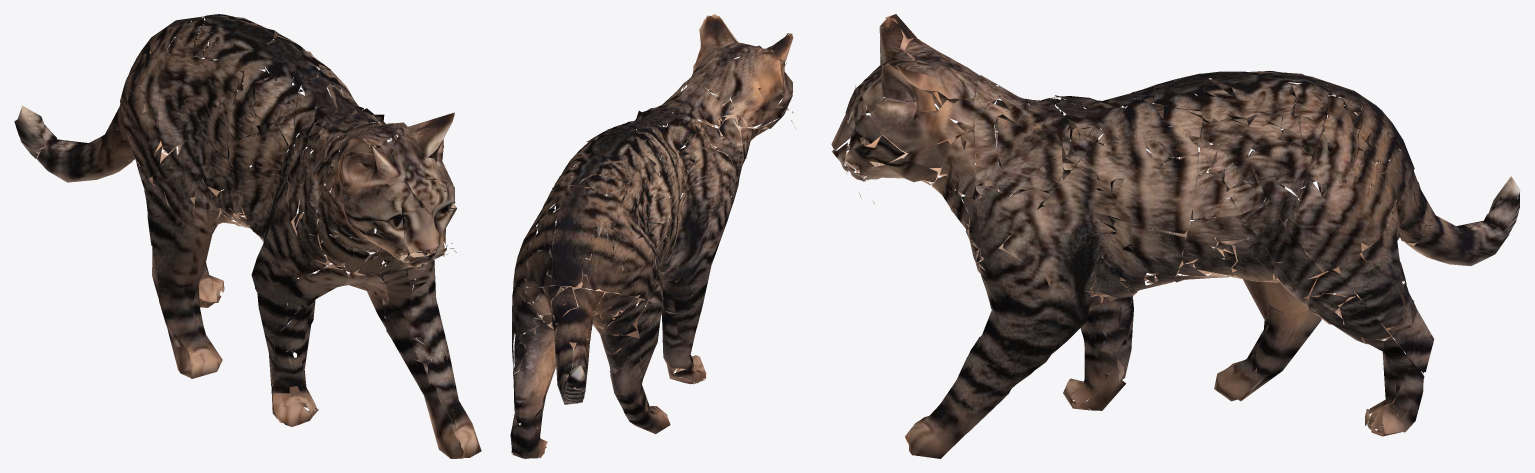
The model's file is cat.glb.
3 renders of one model, left to right at view 1: azimuth 30°, elevation 25°; view 2: azimuth 150°, elevation 25°; view 3: azimuth 270°, elevation 25°, orthographic. The views are drawn at different scales.
Parts seen in each view (by area): view 1: mesh_node_0; view 2: mesh_node_0; view 3: mesh_node_0.
Part boxes in pixels (x1=…): mesh_node_0: x1=14, y1=14, x2=481, y2=458; mesh_node_0: x1=510, y1=14, x2=795, y2=458; mesh_node_0: x1=831, y1=14, x2=1520, y2=458.
Bounding box in the file's own units: 0.165 × 0.3 × 0.4967.
Materials: 1 (1 with a texture image).
